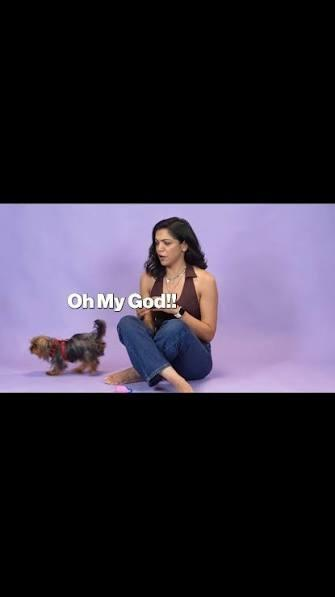adult_dog: (28, 319, 106, 376)
non-dog: (104, 216, 218, 395)
